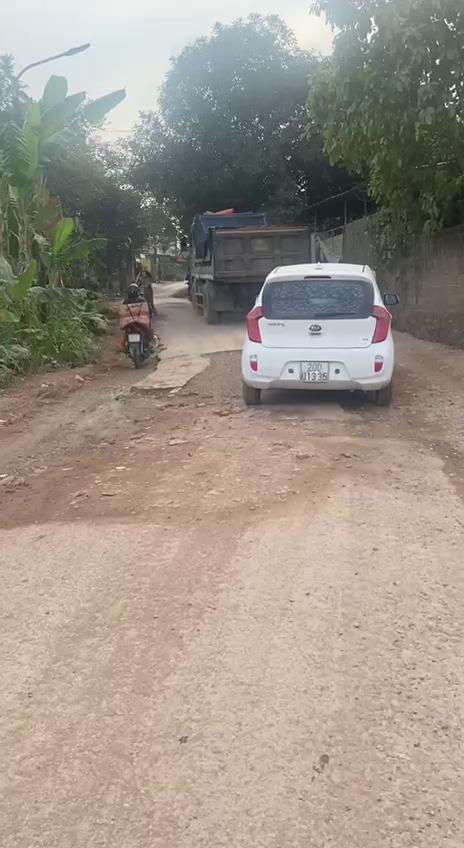pothole: (30, 388, 328, 514), (332, 392, 464, 498), (168, 339, 252, 413)
